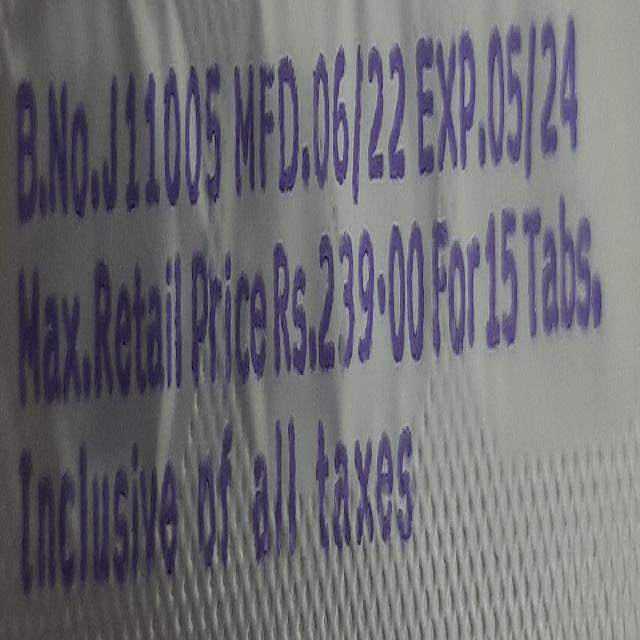sentence: (18, 194, 602, 405), (15, 12, 579, 224), (19, 417, 412, 599)
